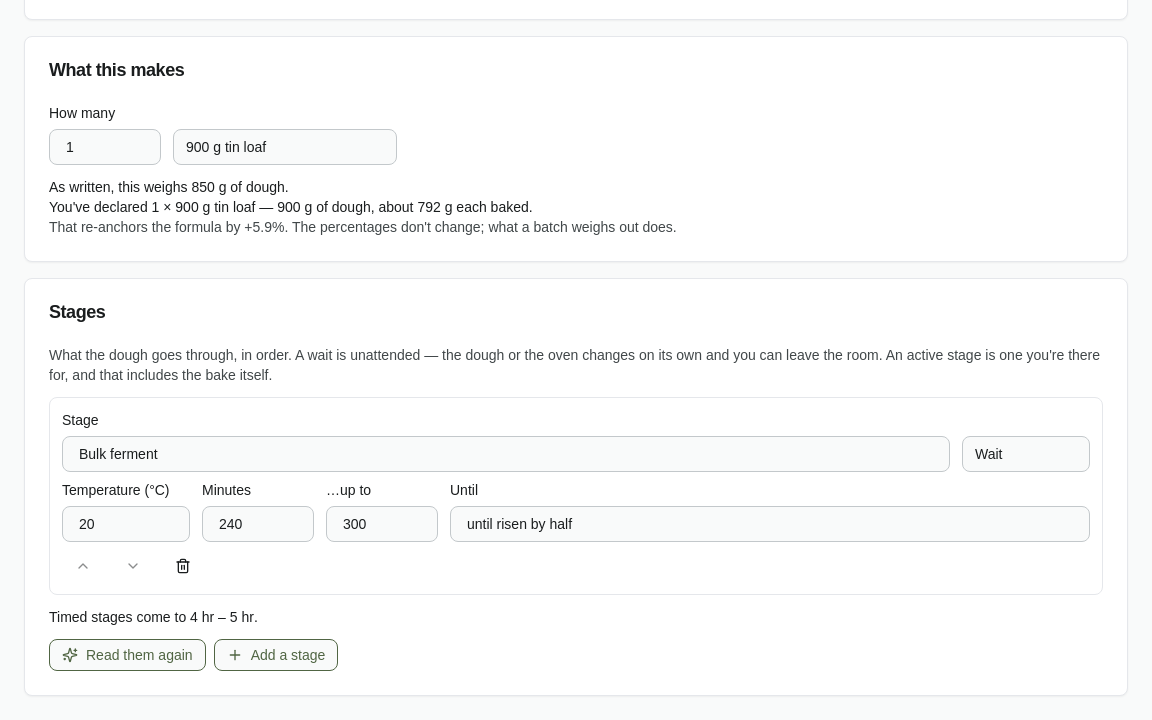
it: FormulaPage — re-running replaces, and says so first › asks before throwing away stages that are already there
This screenshot has width=1152, height=720.
(page scrolled)
Click the button with test id "formula-stages-extract": {"x": 127, "y": 655} [49,639,206,671]
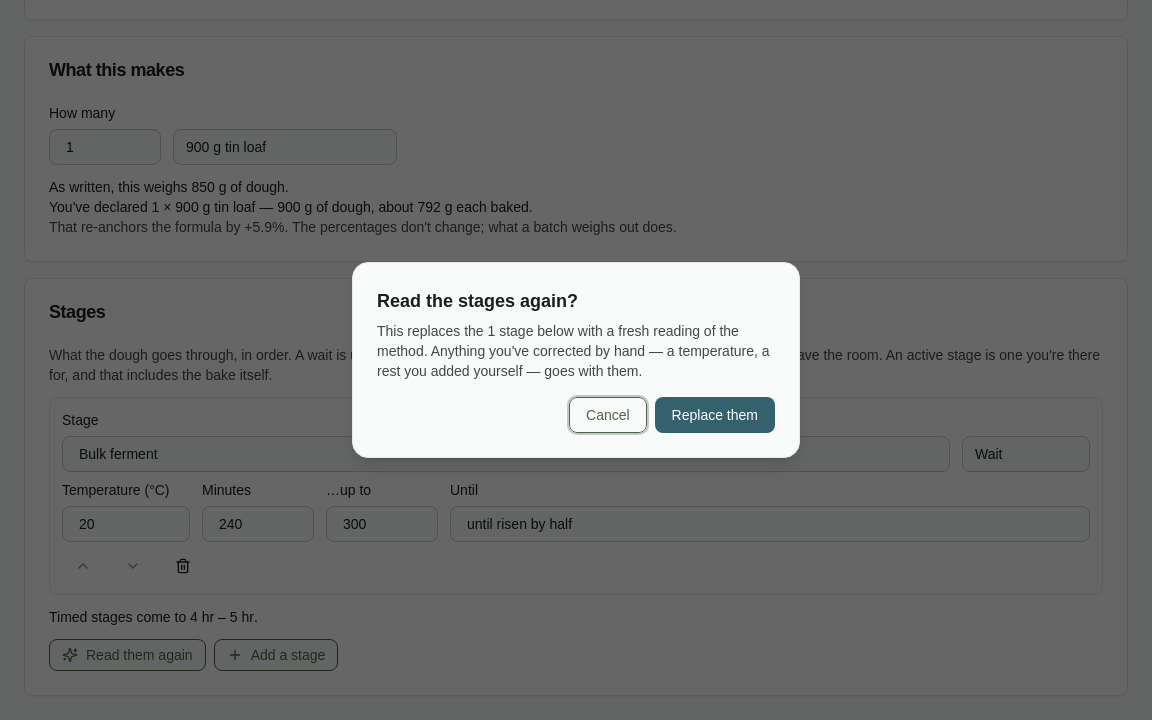
Expected: the dialog is shown, [352,262,800,458]
Expected: the text "corrected by hand" is shown, [377,323,770,379]
